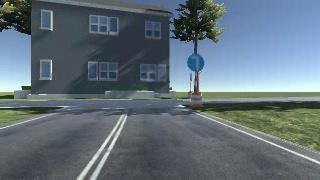turn_left: (187, 54, 204, 71)
